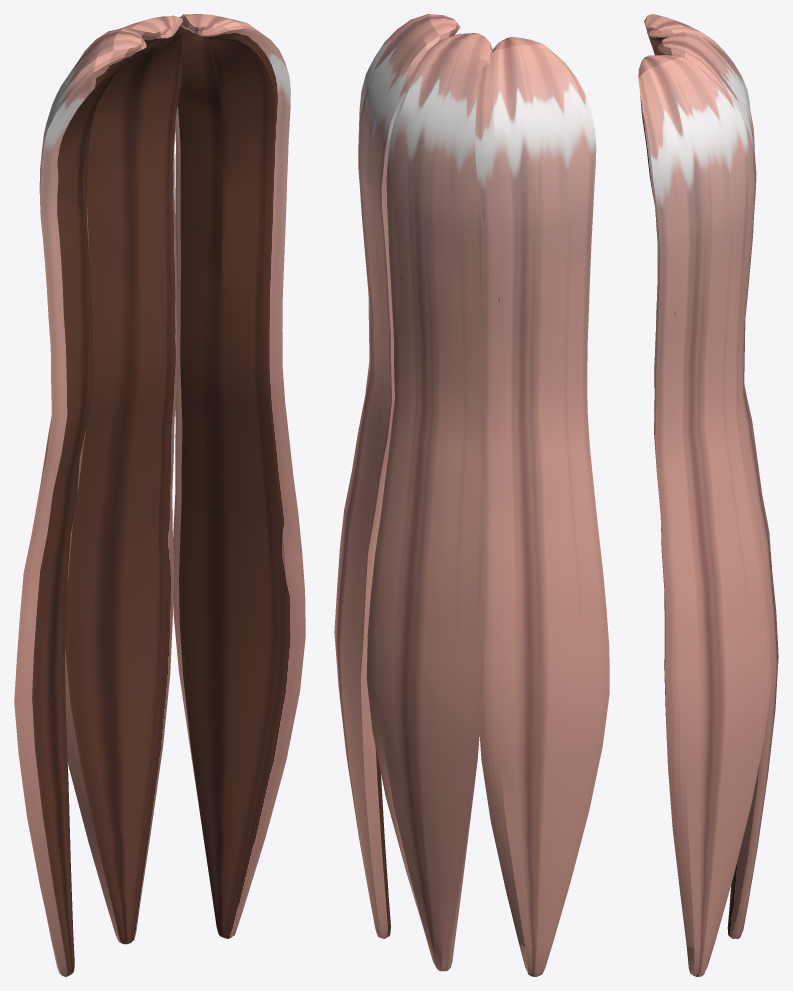
Rendered from PinkyTailHairs.obj.
The picture shows the model from 3 angles, left to right: view 1: azimuth 30°, elevation 25°; view 2: azimuth 150°, elevation 25°; view 3: azimuth 270°, elevation 25°; orthographic projection. The views are drawn at different scales.
Visible parts, largest first — view 1: tailhair.L, tailhair, tailhair.R; view 2: tailhair.R, tailhair, tailhair.L; view 3: tailhair.L, tailhair, tailhair.R.
Part boxes in pixels (x1,y1,x2,y2): tailhair.L: [173, 14, 305, 938]; tailhair: [65, 15, 182, 944]; tailhair.R: [14, 28, 146, 976]; tailhair.R: [475, 37, 609, 976]; tailhair: [366, 33, 492, 971]; tailhair.L: [334, 14, 460, 938]; tailhair.L: [638, 55, 770, 976]; tailhair: [657, 32, 778, 938]; tailhair.R: [644, 14, 750, 108].
Bounding box in the file's own units: 0.2262 × 0.7142 × 0.1008.
Materials: 1 (1 with a texture image).
